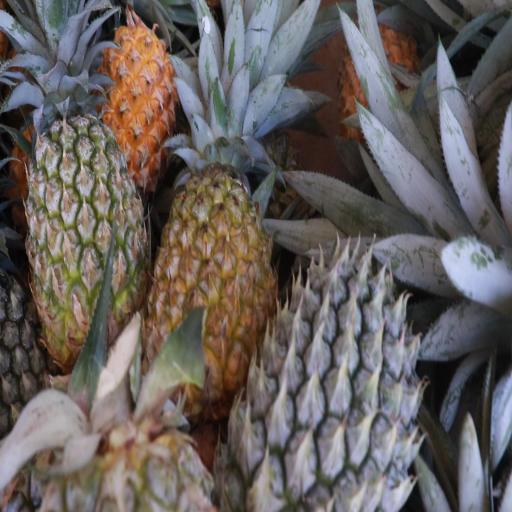------------------------------: (27, 111, 147, 344)
Pineapple - v8 v1: (152, 141, 272, 401), (67, 20, 177, 168)
